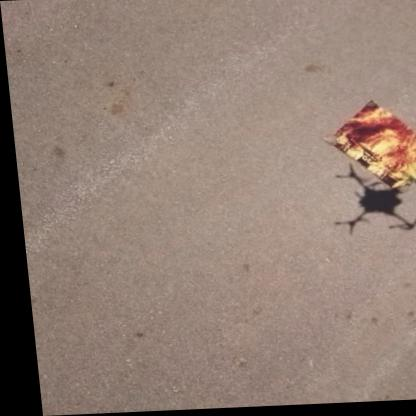fire-poster: (319, 100, 416, 196)
